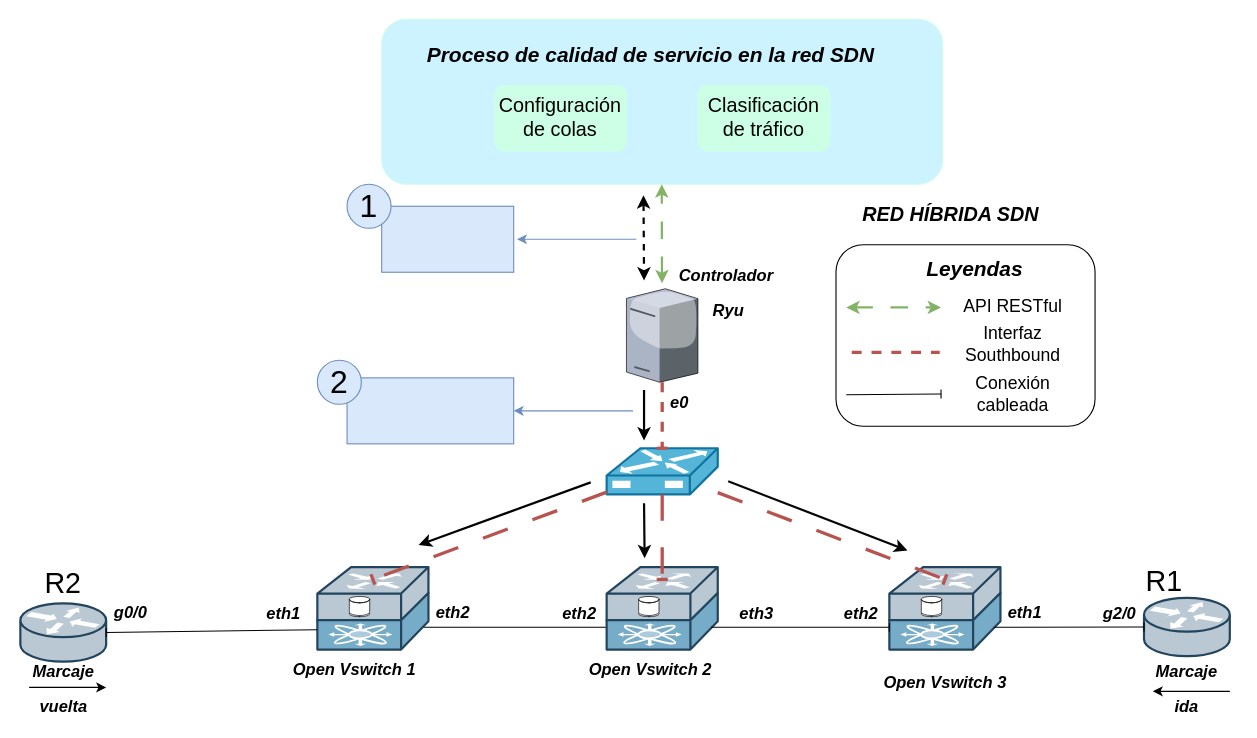
The diagram is 1257 pixels wide and 738 high, and some of its shapes have lost their labels. The shapes that lost their labels are listed below. From the top down, each one's box as (x1, y1, x2, y2) in pixels, then its label:
(381, 205, 514, 272): Establecimiento de polticas de QoS
(346, 377, 514, 444): Envío de polticas de QoS
